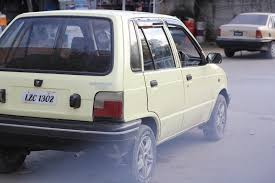Number Plate (Car): (22, 90, 57, 105)
